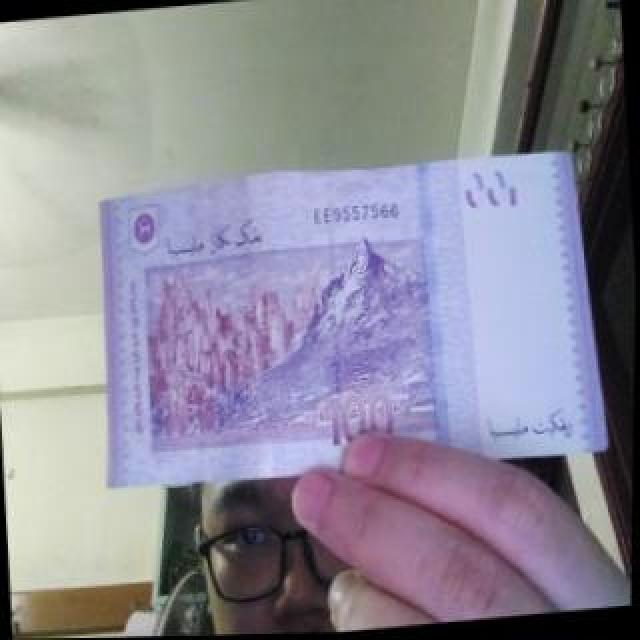100 Ringgit: (90, 140, 626, 495)
